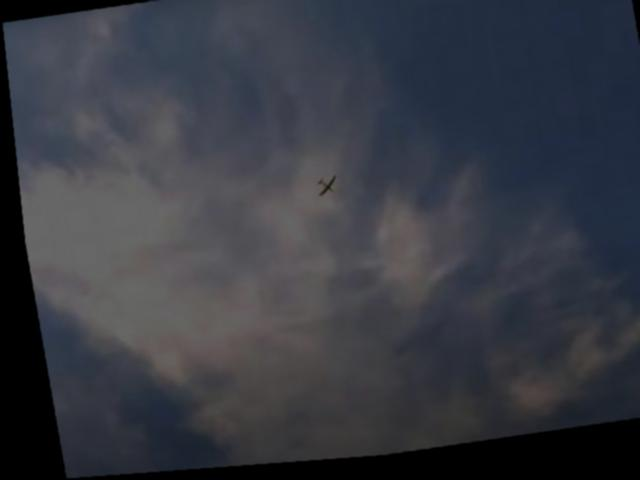iha: (305, 178, 334, 202)
